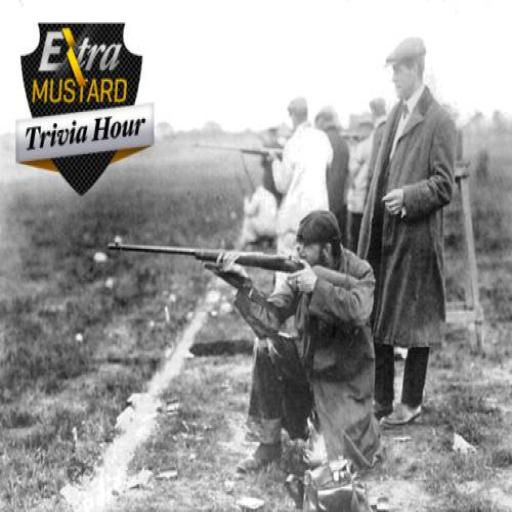shooting: (203, 207, 388, 480)
